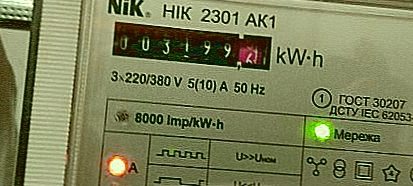0: (115, 31, 129, 50), (138, 32, 150, 51)
1: (180, 33, 190, 52)
3: (159, 36, 169, 55)
6: (243, 50, 253, 66)
9: (220, 41, 231, 59), (200, 37, 210, 55)
screen: (104, 15, 278, 77)
